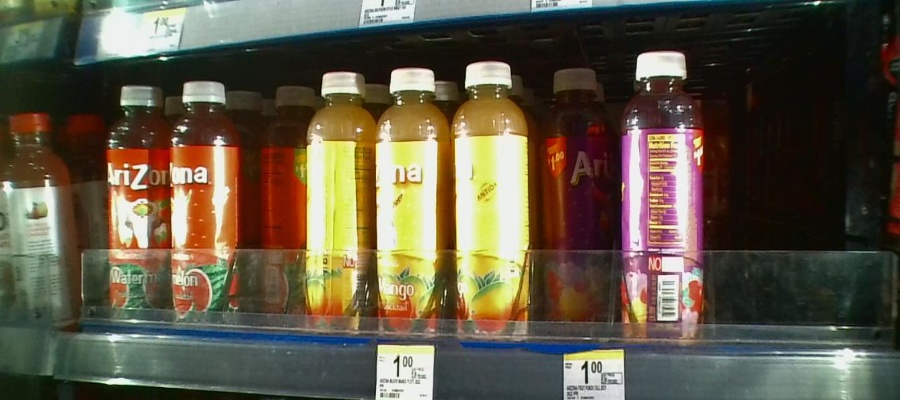bottle: (620, 45, 708, 340), (453, 60, 533, 335), (375, 60, 453, 342), (539, 64, 611, 337), (169, 73, 243, 331), (309, 69, 374, 333), (102, 78, 167, 328), (254, 79, 311, 331)
